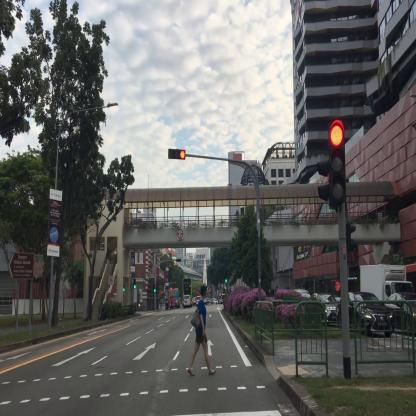red_traffic_light: (328, 122, 345, 202), (168, 146, 185, 160)
